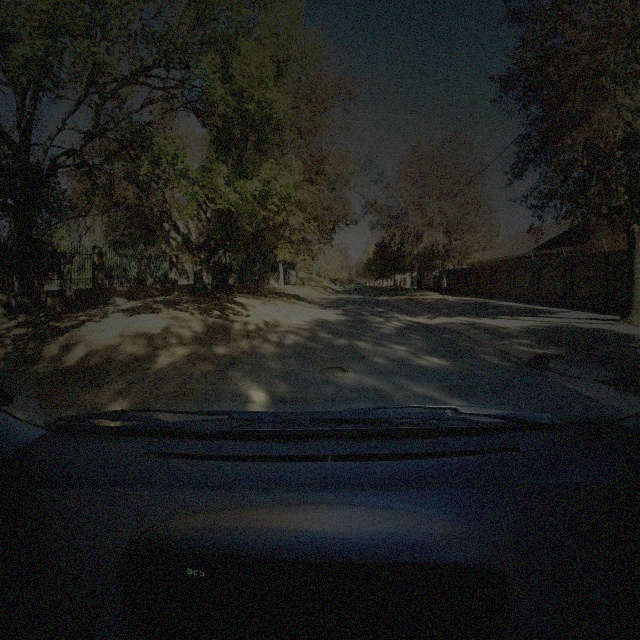pothole: (318, 364, 350, 382)
